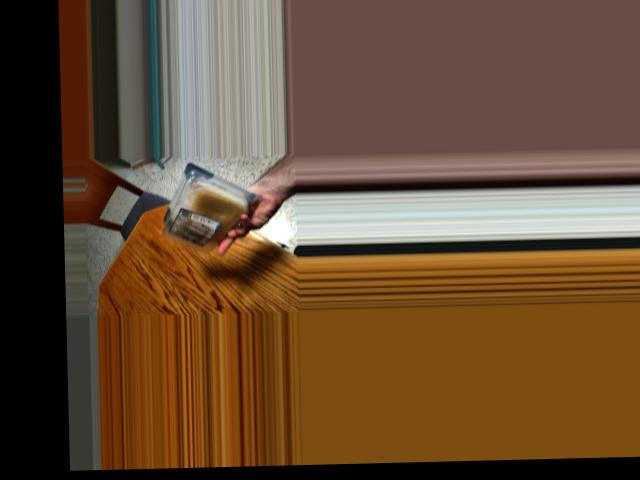cheese: (155, 172, 254, 251)
